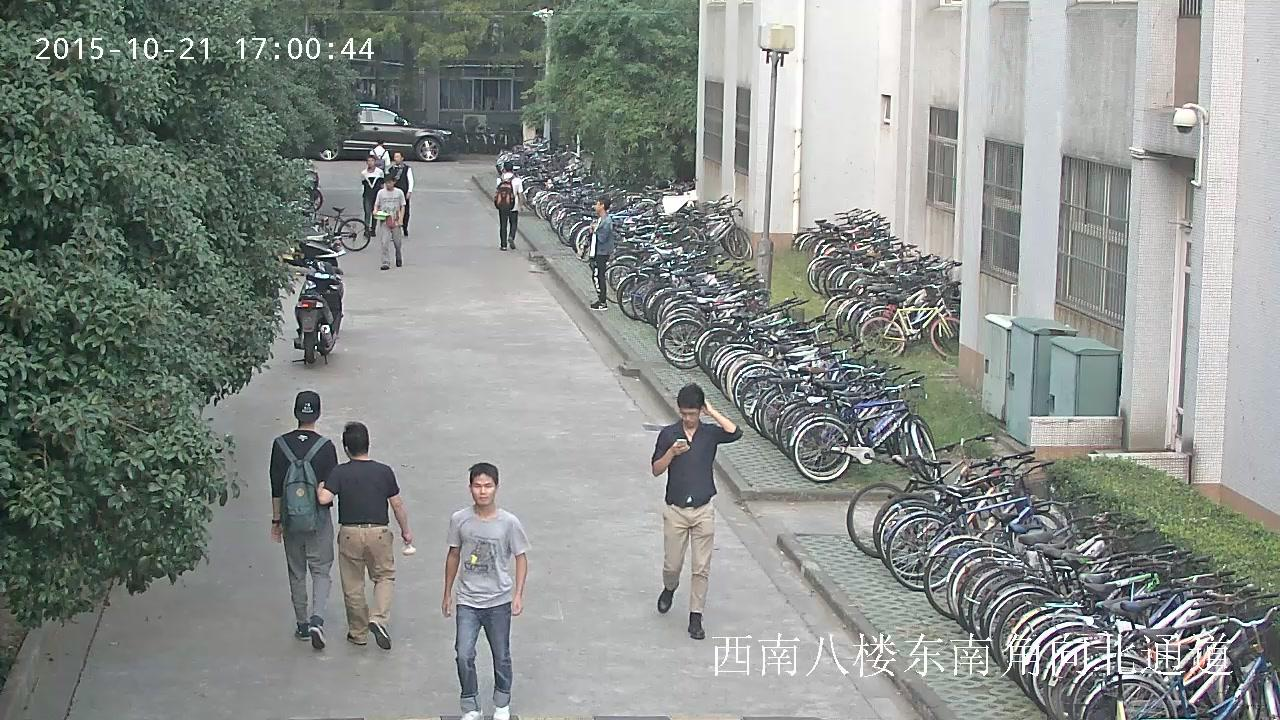person: (652, 381, 744, 639), (442, 462, 532, 720), (315, 420, 415, 651), (270, 389, 337, 640), (373, 174, 405, 271), (588, 195, 612, 310), (494, 161, 522, 251), (387, 152, 412, 235), (361, 155, 384, 238), (369, 139, 390, 172)
